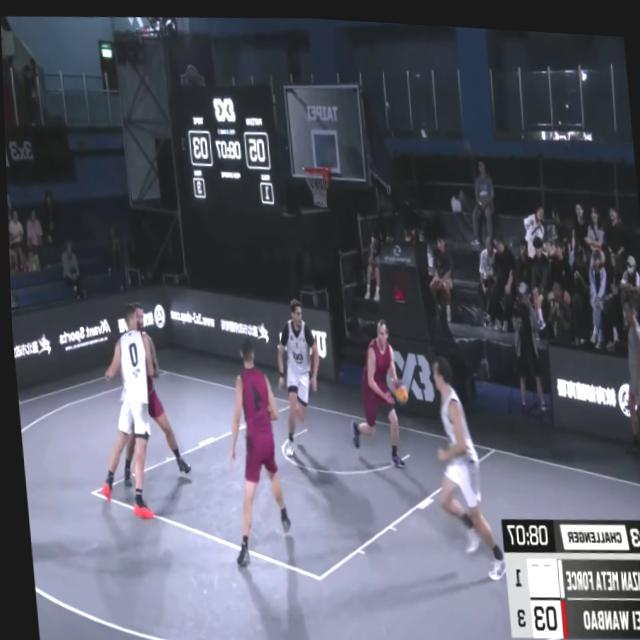ball: (389, 371, 409, 404)
hoop: (297, 155, 336, 211)
player: (420, 342, 503, 584), (76, 299, 160, 528), (213, 331, 292, 574), (105, 277, 190, 486), (334, 304, 403, 469), (265, 292, 331, 459)
